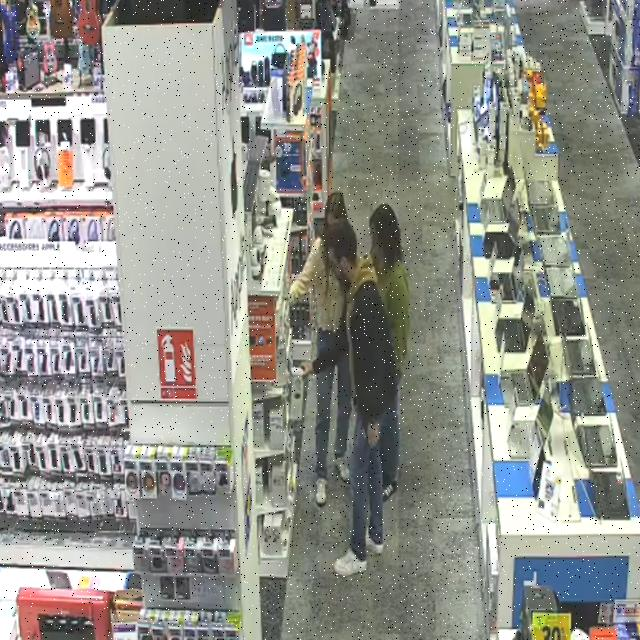article: (290, 367, 304, 421)
hands: (368, 422, 379, 447), (302, 362, 313, 377)
person: (304, 221, 395, 575), (370, 204, 409, 384), (291, 238, 344, 354)
